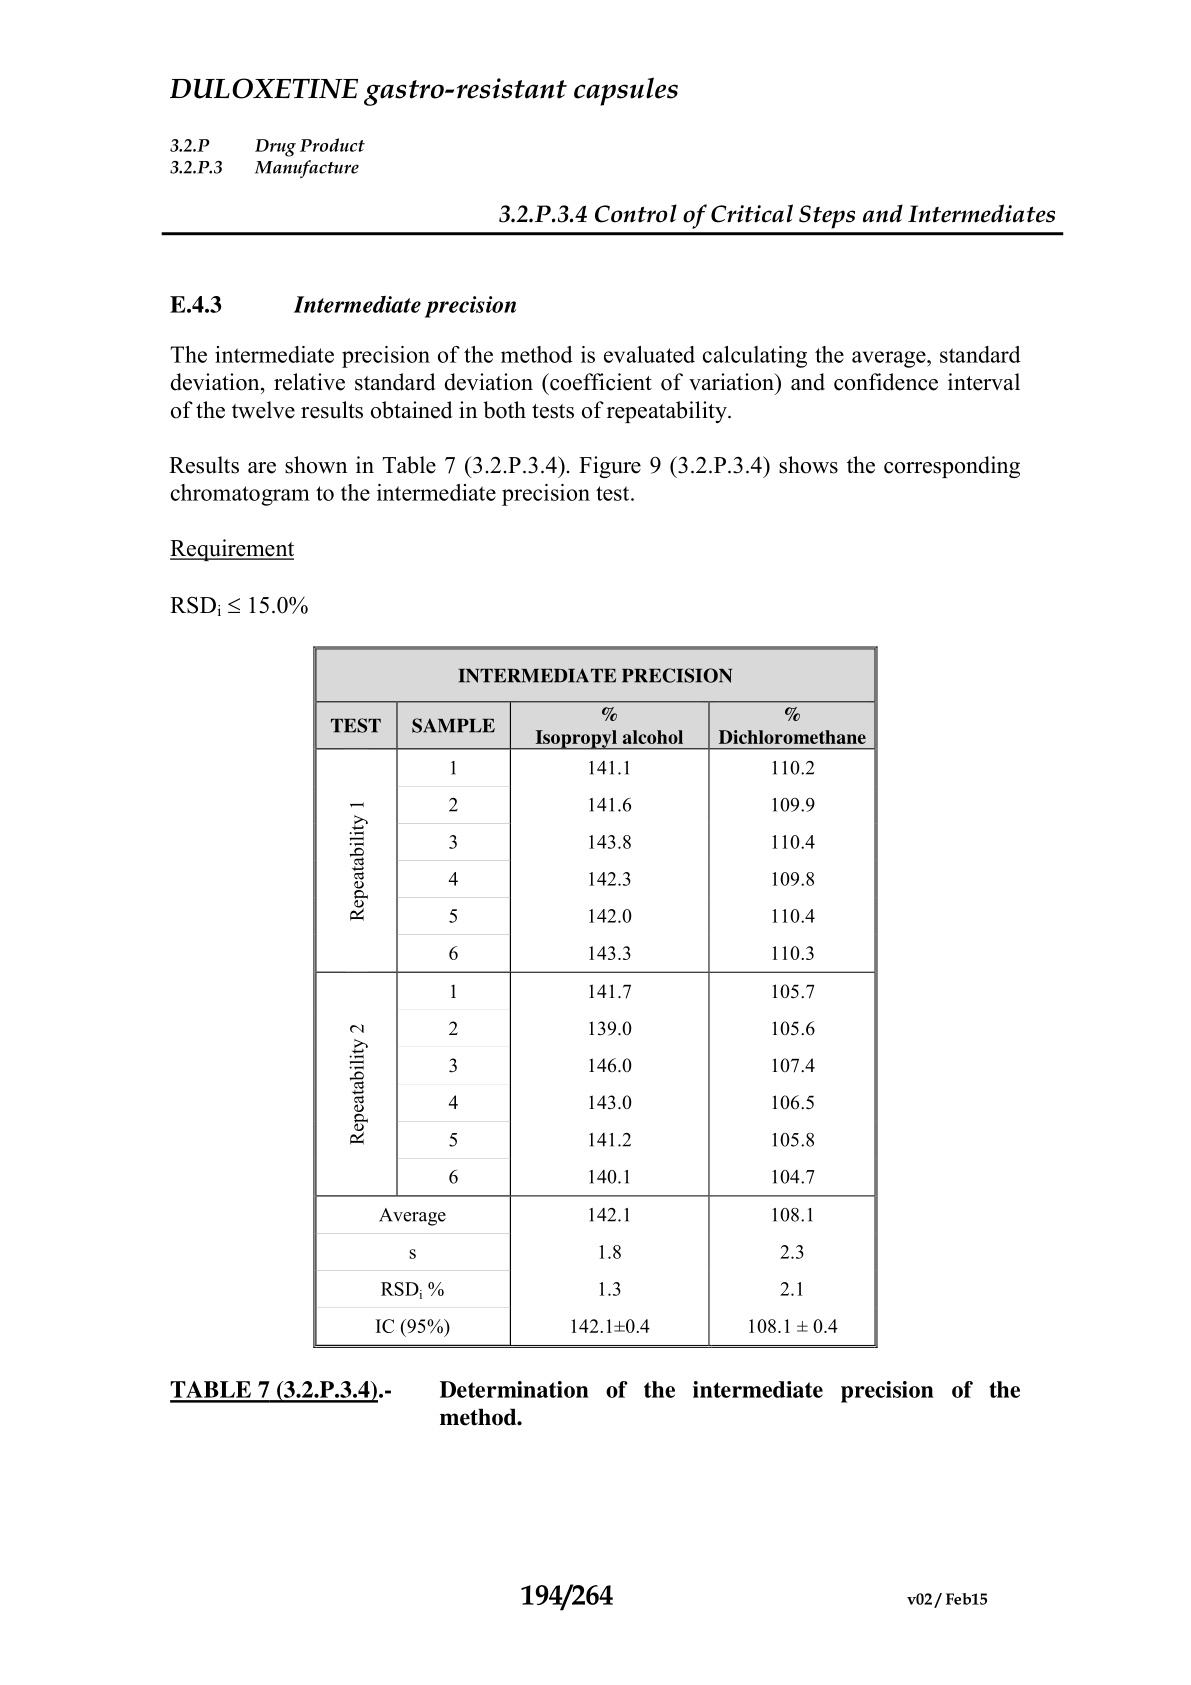merged_cells: (311, 645, 880, 1349)
